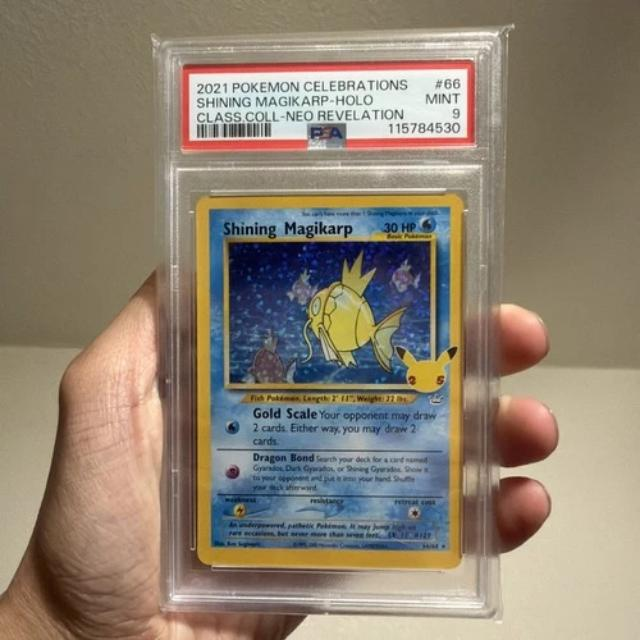Card: (192, 193, 465, 571)
Name: (211, 214, 358, 238)
